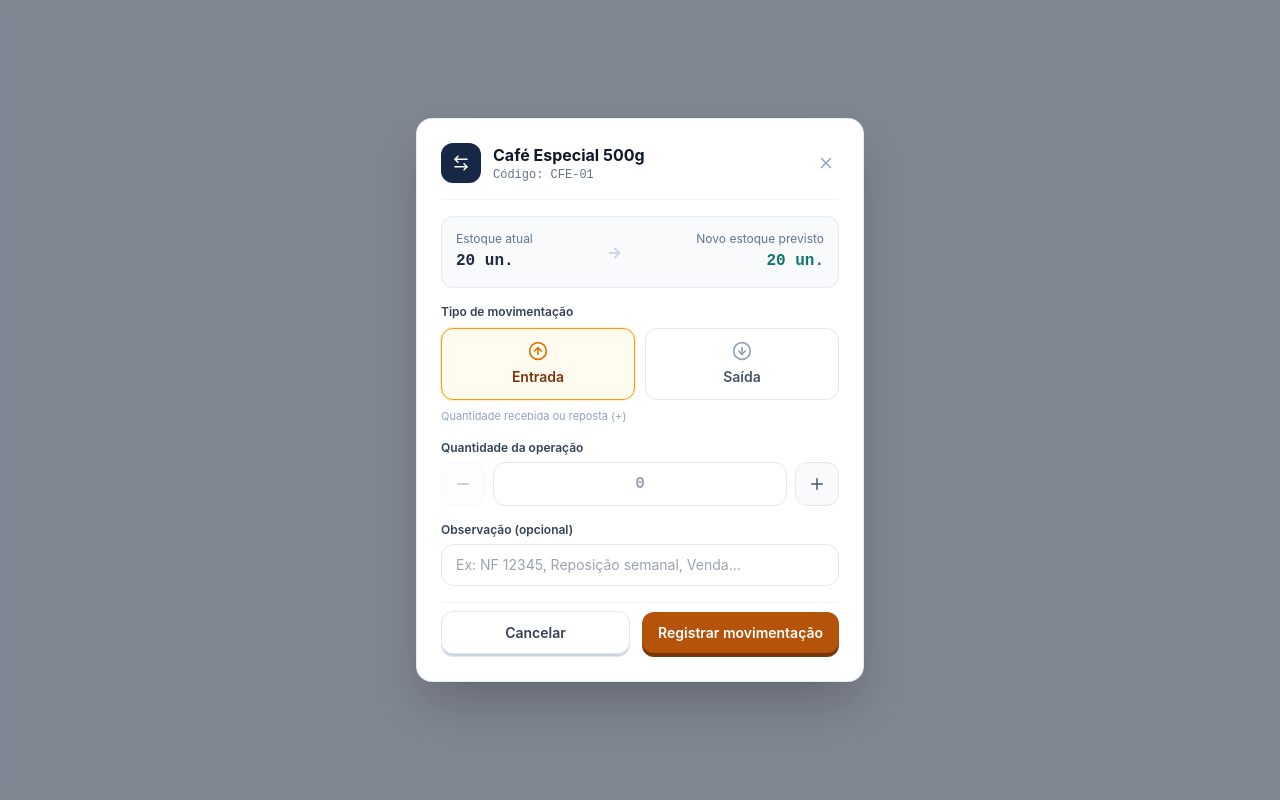
MovementModal › calcula previsão de estoque para saída
This screenshot has width=1280, height=800.
Click the button "Saída" at (742, 364), box [645,328,839,400]
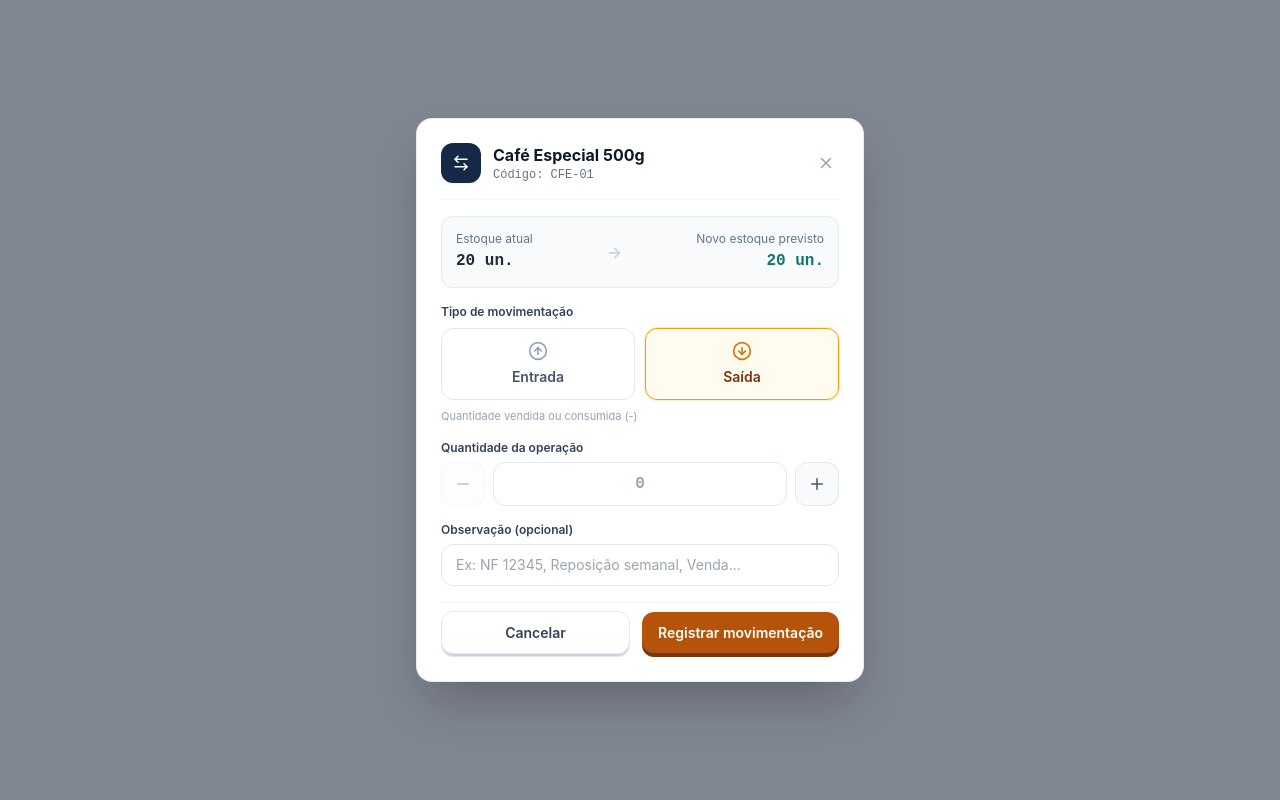
Type "5" into the field with placeholder "0" at (640, 484), box [493,462,787,506]
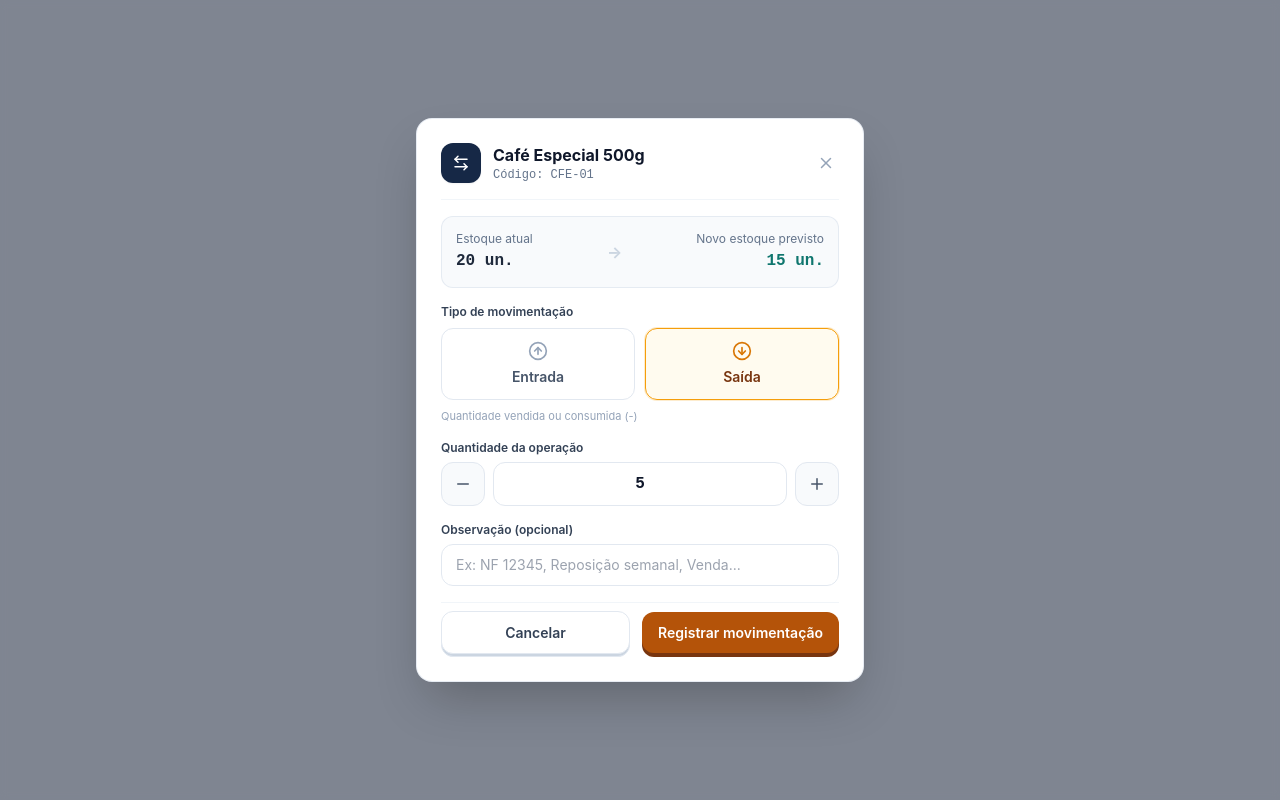
Check: the text "15 un." is shown, box [766,252,824,270]
